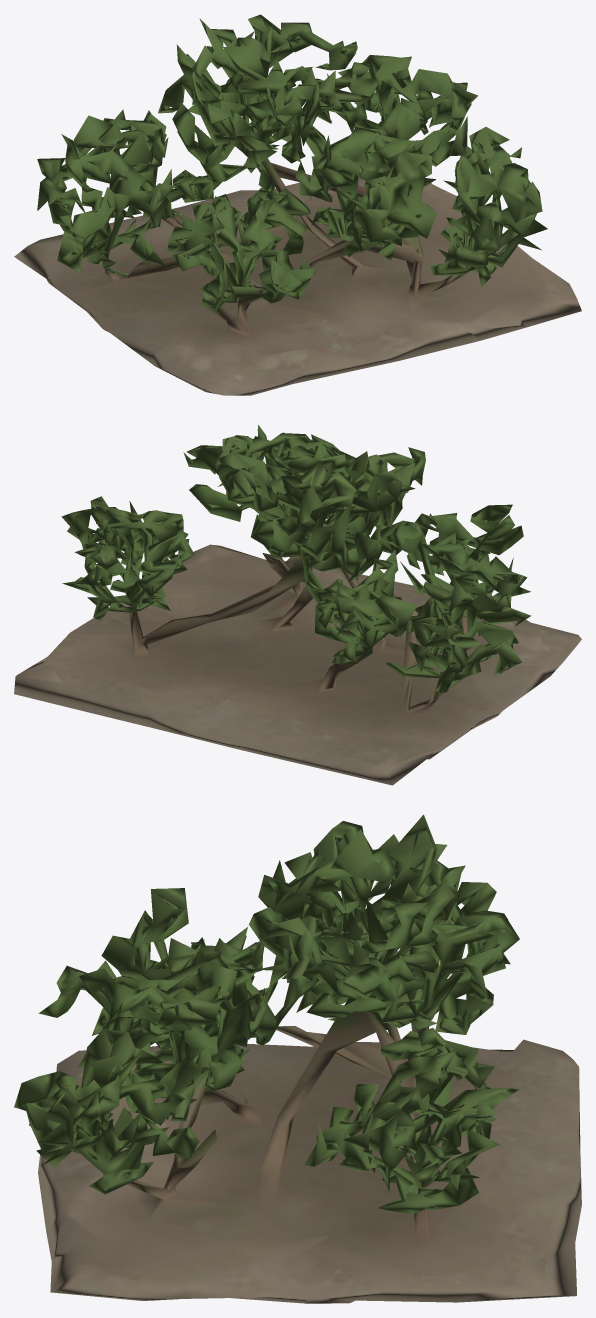
The model's file is bush_a.glb.
3 renders of one model, top to bottom at view 1: azimuth 30°, elevation 25°; view 2: azimuth 150°, elevation 25°; view 3: azimuth 270°, elevation 25°, orthographic. The views are drawn at different scales.
Visible parts, largest first — view 1: tripo_node_395cb1ea-132d-4aa0-9e57-a0b310bf31ed; view 2: tripo_node_395cb1ea-132d-4aa0-9e57-a0b310bf31ed; view 3: tripo_node_395cb1ea-132d-4aa0-9e57-a0b310bf31ed.
Boxes of the visible parts, bbox=[...] form: tripo_node_395cb1ea-132d-4aa0-9e57-a0b310bf31ed: bbox=[14, 14, 581, 395]; tripo_node_395cb1ea-132d-4aa0-9e57-a0b310bf31ed: bbox=[14, 425, 581, 785]; tripo_node_395cb1ea-132d-4aa0-9e57-a0b310bf31ed: bbox=[14, 814, 581, 1303].
Bounding box in the file's own units: 1 × 0.5581 × 0.8662.
1 material, 1 textured.
